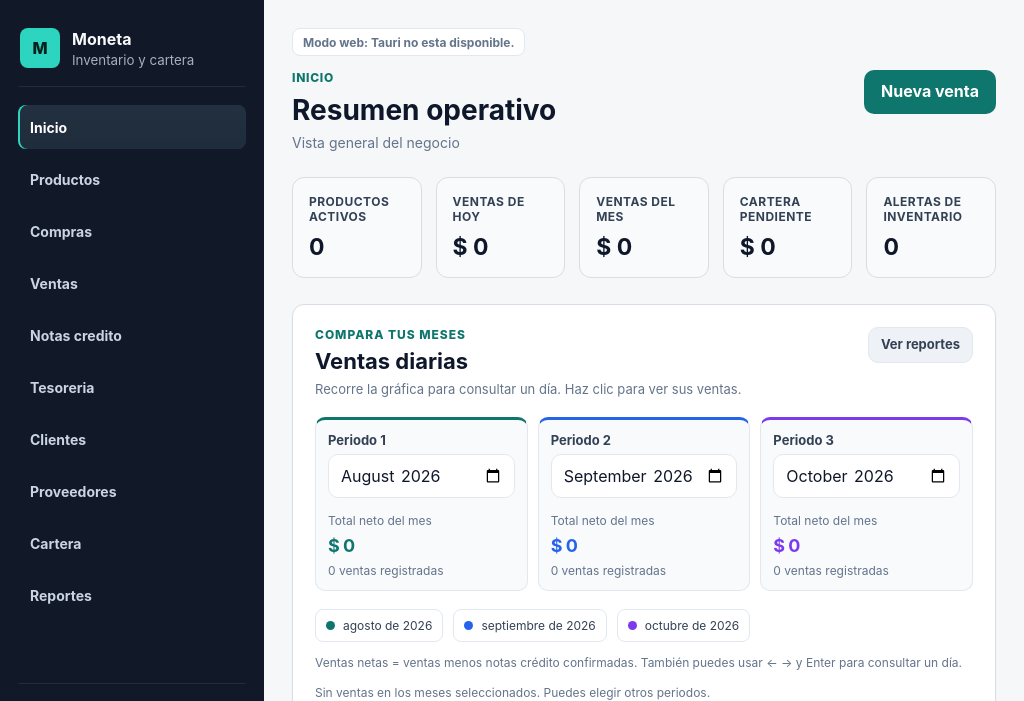
Test: App navigation › switches active section from the sidebar
The width and height of the screenshot is (1024, 701).
Expected: the element with class "sidebar-brand" is shown, [18,24,246,87]
Expected: the element with class "brand" is shown, [20,28,194,68]
Click the button "Productos".
click(132, 179)  # box [18,157,246,201]
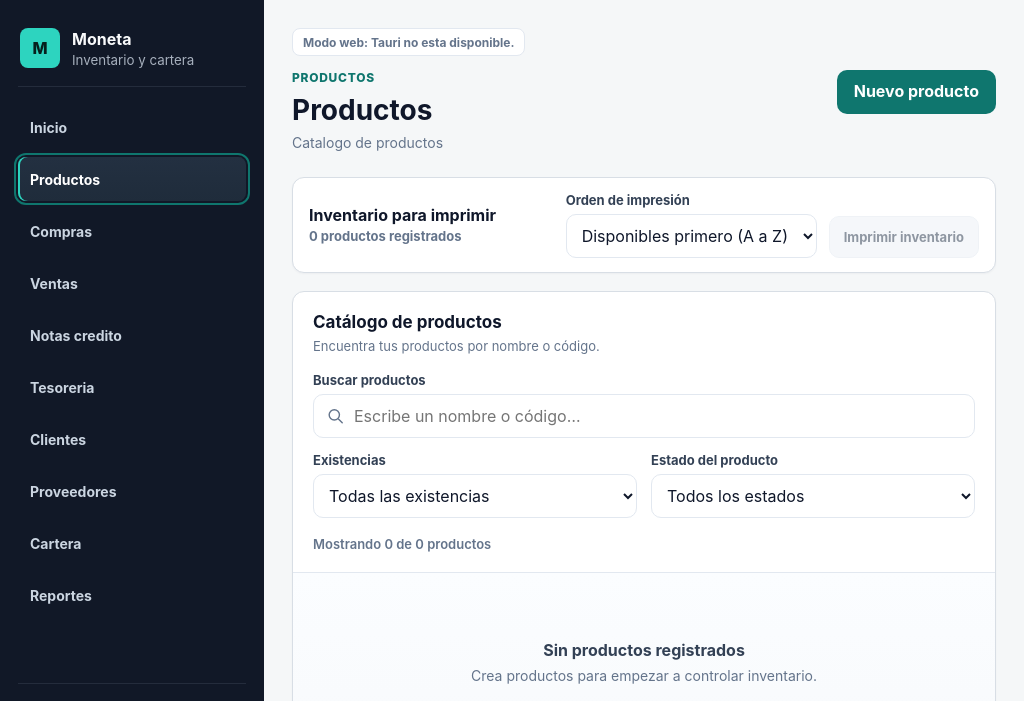
Expected: the heading "Productos" is shown, [292,93,443,127]
Expected: the text "Catalogo de productos" is shown, [292,133,443,153]
